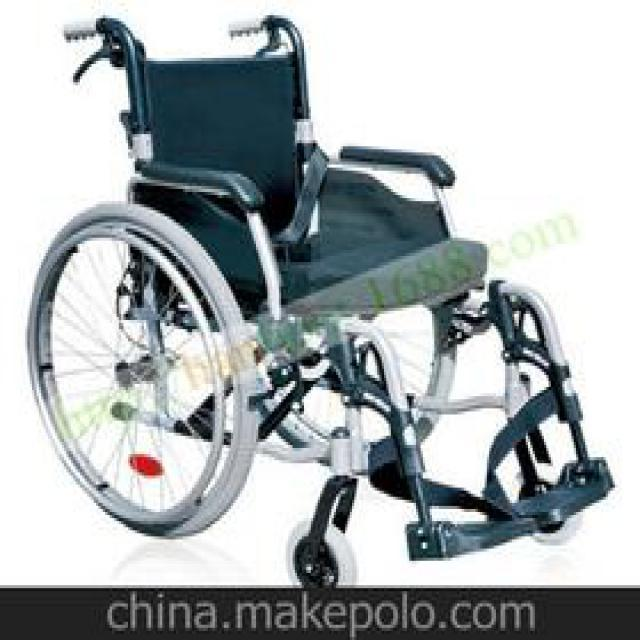wheelchairs: (29, 13, 616, 586)
